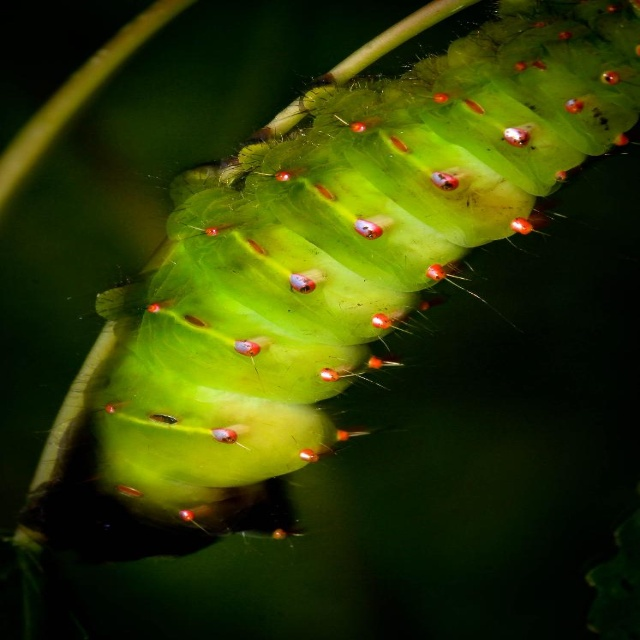Caterpillar: (81, 0, 639, 551)
